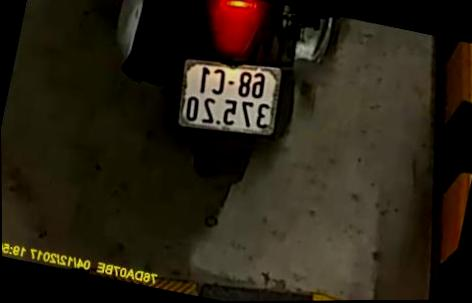License_Plate: (171, 60, 285, 140)
